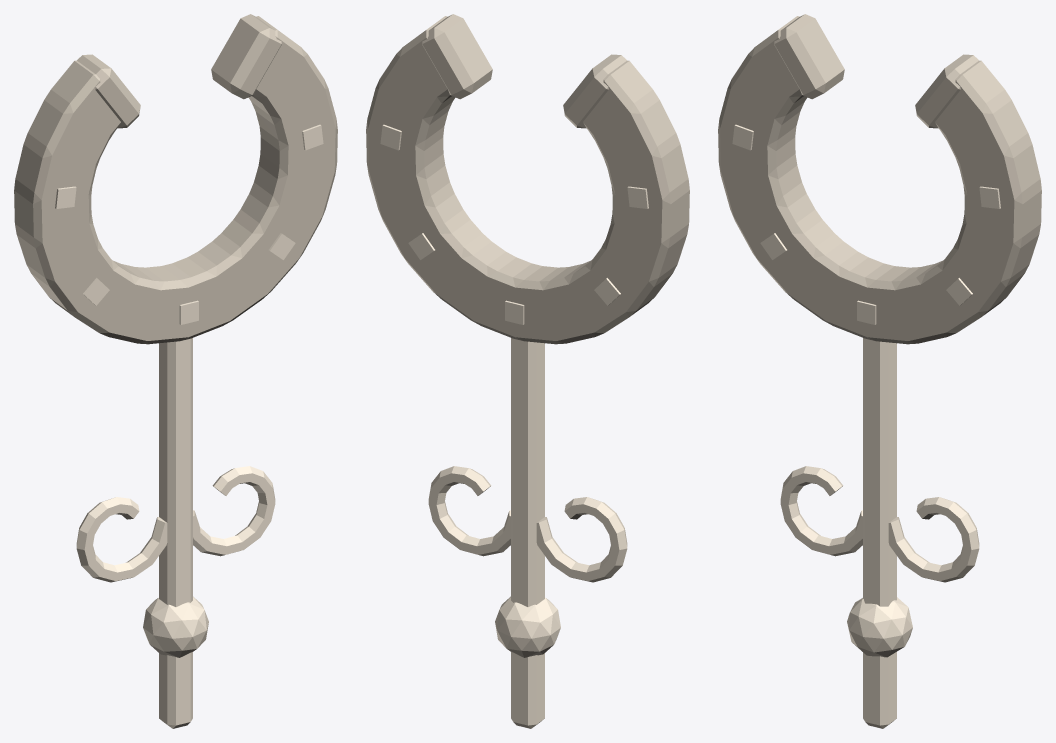
Rendered from SM_VK_Emblem_Ridge_Horseshoe.fbx.
3 renders of one model, left to right at view 1: azimuth 30°, elevation 25°; view 2: azimuth 150°, elevation 25°; view 3: azimuth 330°, elevation 25°, orthographic.
Parts seen in each view (by area): view 1: SM_VK_Emblem_Ridge_Horseshoe.001; view 2: SM_VK_Emblem_Ridge_Horseshoe.001; view 3: SM_VK_Emblem_Ridge_Horseshoe.001.
Boxes of the visible parts, x1,y1,x2,y2 form: SM_VK_Emblem_Ridge_Horseshoe.001: (14, 14, 337, 728); SM_VK_Emblem_Ridge_Horseshoe.001: (366, 14, 689, 728); SM_VK_Emblem_Ridge_Horseshoe.001: (718, 14, 1041, 728).
Size of the model in its own units: 0.8336 by 1.78 by 0.16.
